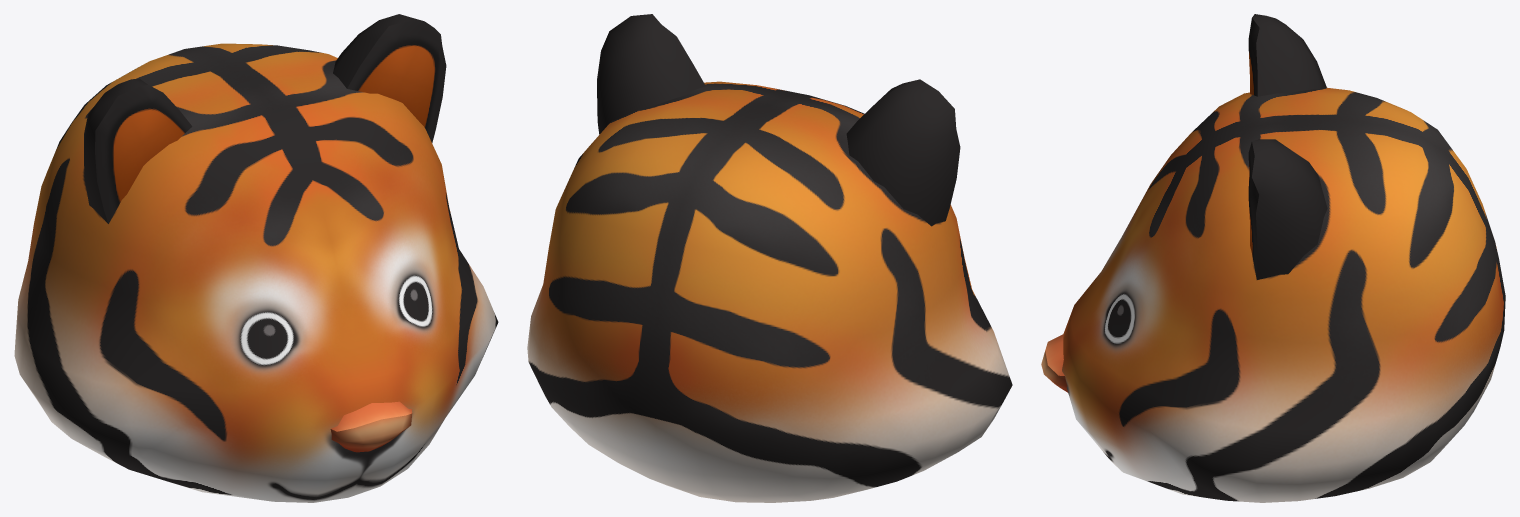
The model's file is CRT0110016.FBX.
3 renders of one model, left to right at view 1: azimuth 30°, elevation 25°; view 2: azimuth 150°, elevation 25°; view 3: azimuth 270°, elevation 25°, orthographic. The views are drawn at different scales.
Visible parts, largest first — view 1: smCRT0110016; view 2: smCRT0110016; view 3: smCRT0110016.
Boxes of the visible parts, x1,y1,x2,y2 form: smCRT0110016: (14,14,498,502); smCRT0110016: (527,14,1012,502); smCRT0110016: (1041,14,1505,502).
Size of the model in its own units: 0.1769 by 0.1598 by 0.1747.
Materials: 1 (1 with a texture image).
